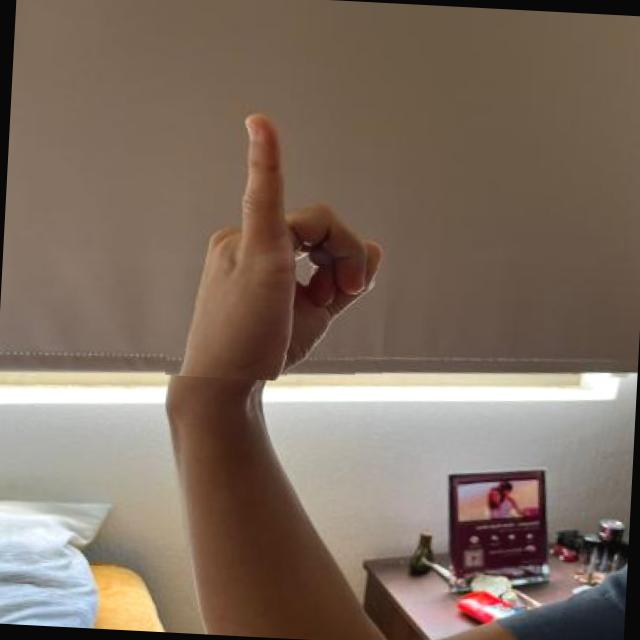I: (157, 99, 396, 386)
